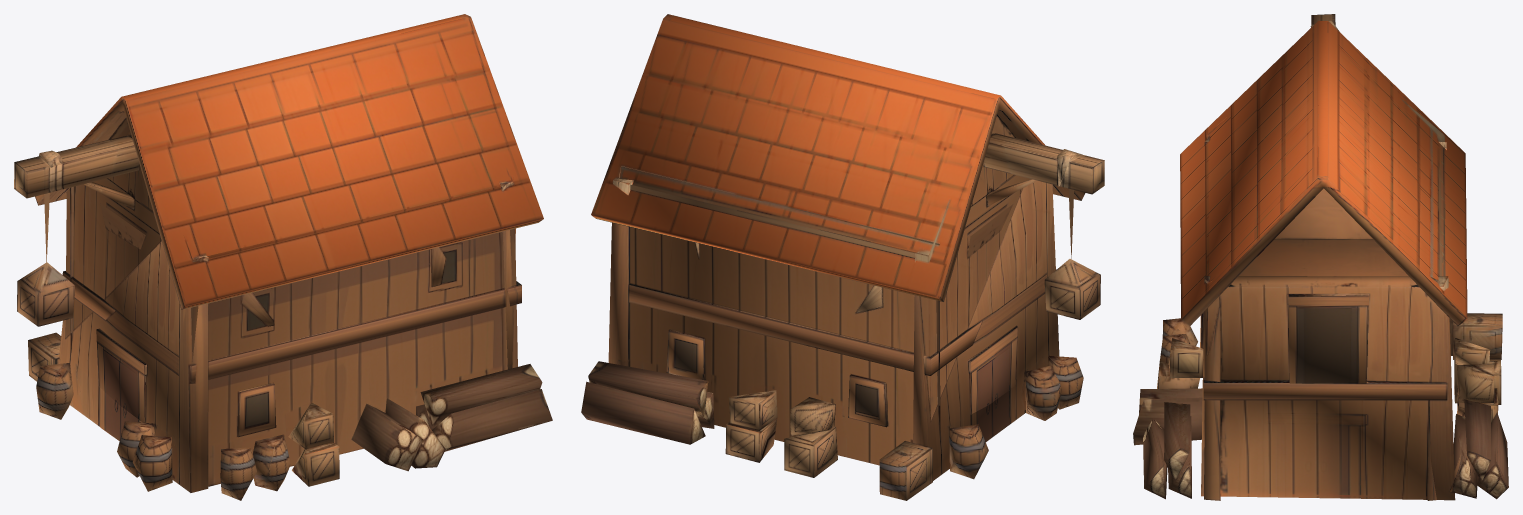
Rendered from meshy-b-550.glb.
3 renders of one model, left to right at view 1: azimuth 30°, elevation 25°; view 2: azimuth 150°, elevation 25°; view 3: azimuth 270°, elevation 25°, orthographic. The views are drawn at different scales.
Size of the model in its own units: 0.9995 by 0.7443 by 0.7714.
1 material, 1 textured.
